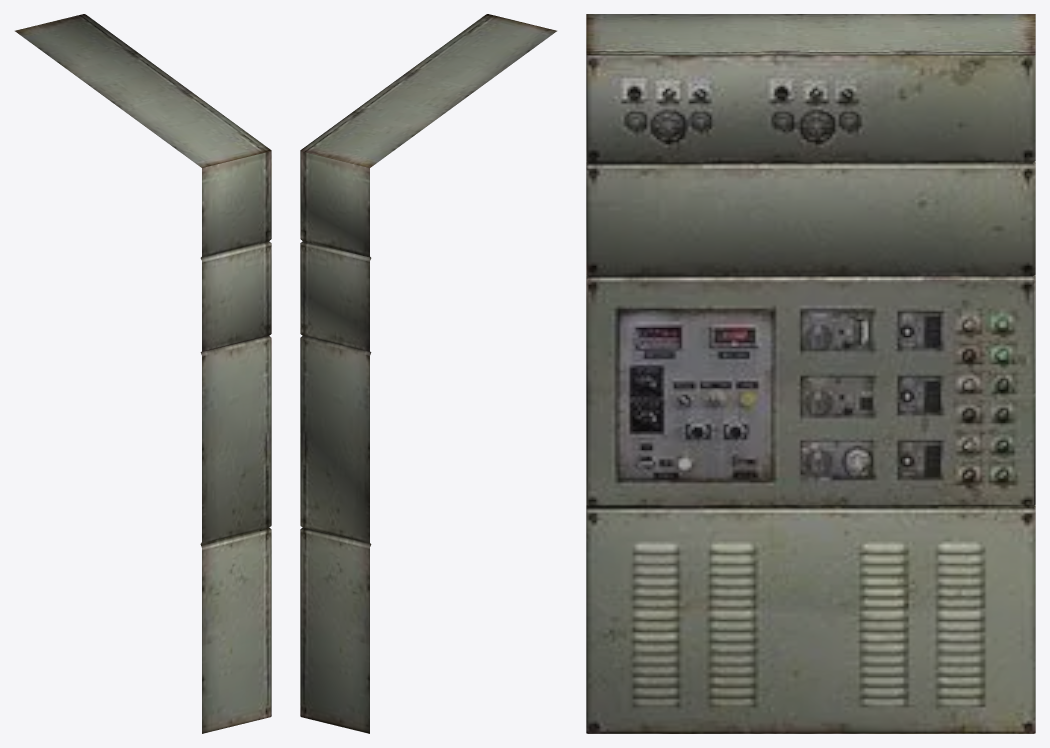
The model's file is wall_console1.glb.
3 renders of one model, left to right at view 1: azimuth 30°, elevation 25°; view 2: azimuth 150°, elevation 25°; view 3: azimuth 270°, elevation 25°, orthographic. The views are drawn at different scales.
Parts seen in each view (by area): view 1: 1_wall_console2, 0_wall_console1; view 2: 1_wall_console2, 0_wall_console1; view 3: 0_wall_console1, 1_wall_console2.
Boxes of the visible parts, x1,y1,x2,y2 form: 1_wall_console2: [15, 14, 271, 733]; 0_wall_console1: [201, 150, 271, 716]; 1_wall_console2: [300, 14, 556, 733]; 0_wall_console1: [300, 150, 370, 716]; 0_wall_console1: [586, 54, 1035, 733]; 1_wall_console2: [586, 14, 1035, 508].
Size of the model in its own units: 0.3168 by 2.43 by 1.46.
Materials: 2 (2 with a texture image).
